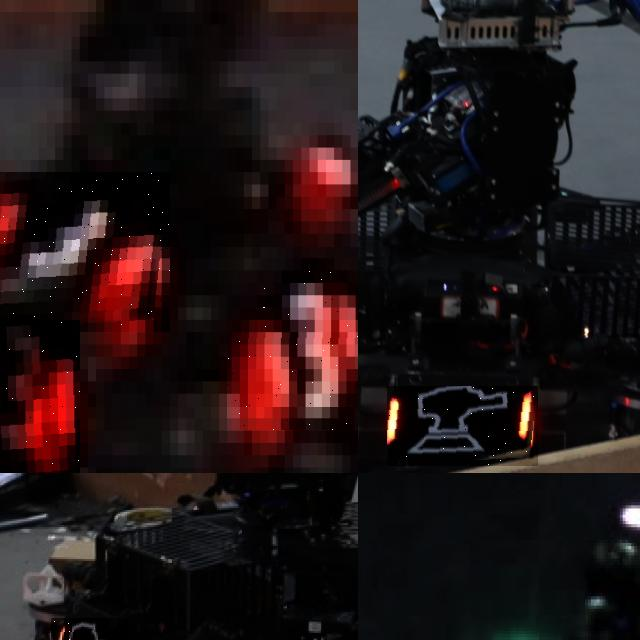R3: (0, 172, 170, 332), (227, 270, 358, 430), (0, 319, 79, 473)
Rs: (387, 386, 538, 466), (51, 618, 128, 640)
